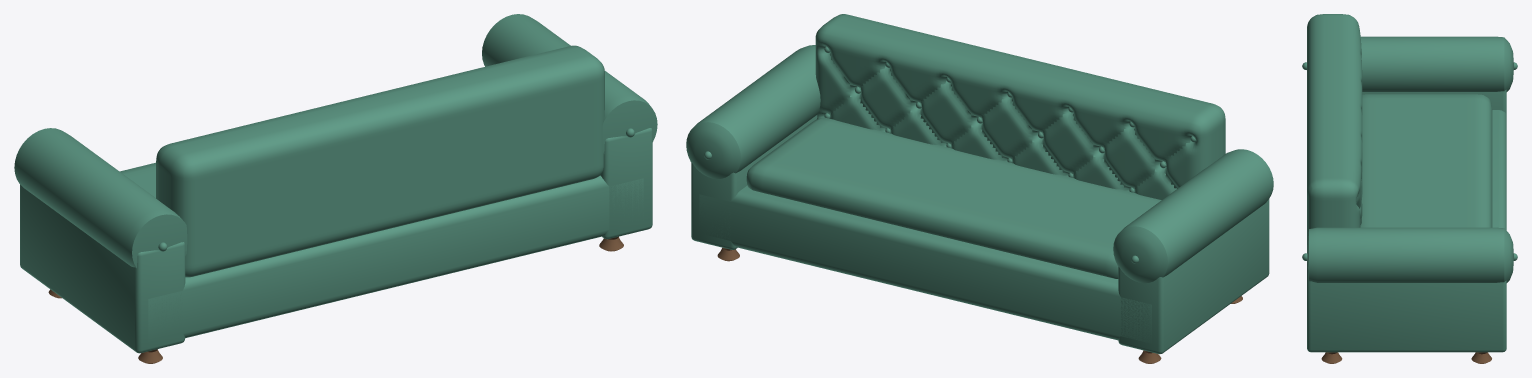
Rendered from arr_divano.fbx.
3 renders of one model, left to right at view 1: azimuth 30°, elevation 25°; view 2: azimuth 150°, elevation 25°; view 3: azimuth 270°, elevation 25°, orthographic. The views are drawn at different scales.
Visible parts, largest first — view 1: arr_divano_velluto, arr_divano_noce; view 2: arr_divano_velluto, arr_divano_noce; view 3: arr_divano_velluto, arr_divano_noce.
Boxes of the visible parts, box(x1,y1,x2,y2) form: arr_divano_velluto: box(14, 14, 657, 353); arr_divano_noce: box(48, 236, 623, 363); arr_divano_velluto: box(686, 14, 1273, 354); arr_divano_noce: box(717, 247, 1242, 363); arr_divano_velluto: box(1302, 14, 1517, 352); arr_divano_noce: box(1321, 352, 1491, 363).
Size of the model in its own units: 2.45 by 0.9 by 1.04.
